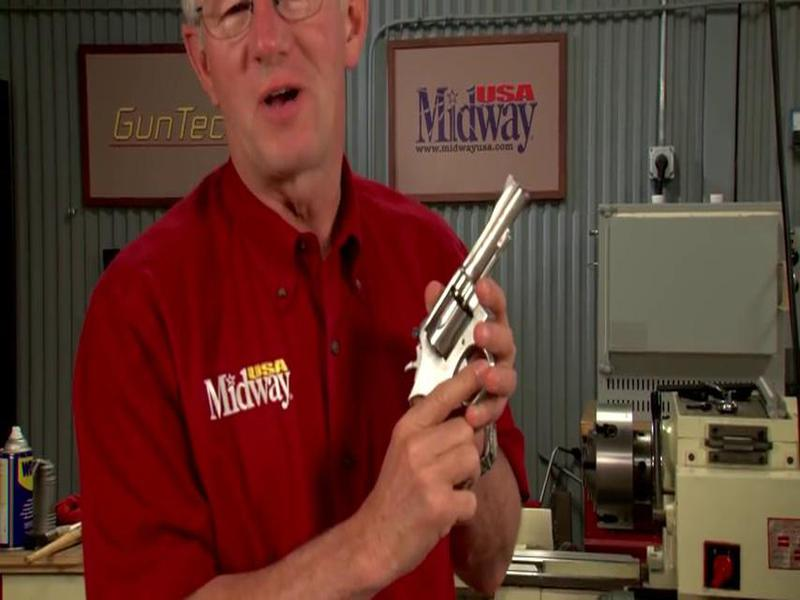Revolver: (395, 171, 549, 465)
